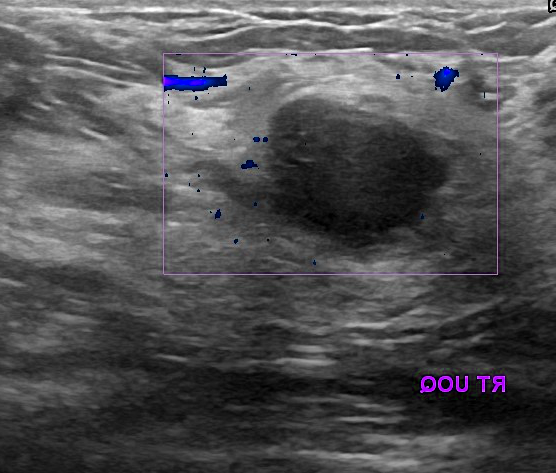Benign: (268, 96, 430, 240)
